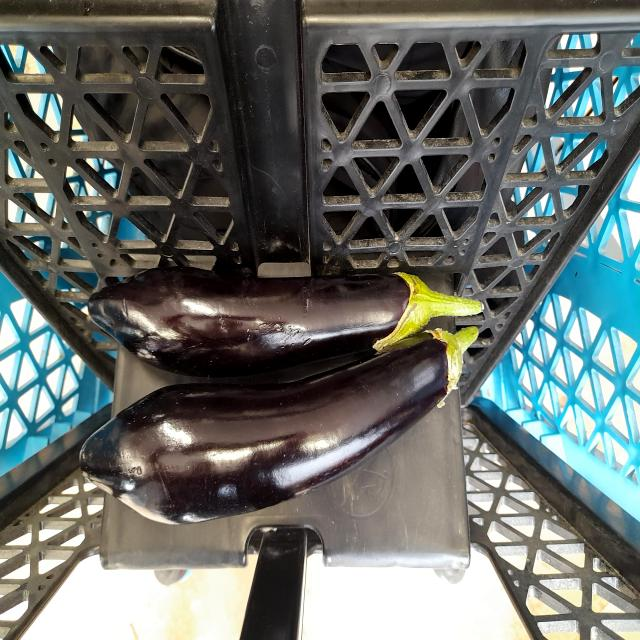eggplant: (75, 318, 491, 531), (77, 241, 482, 376)
